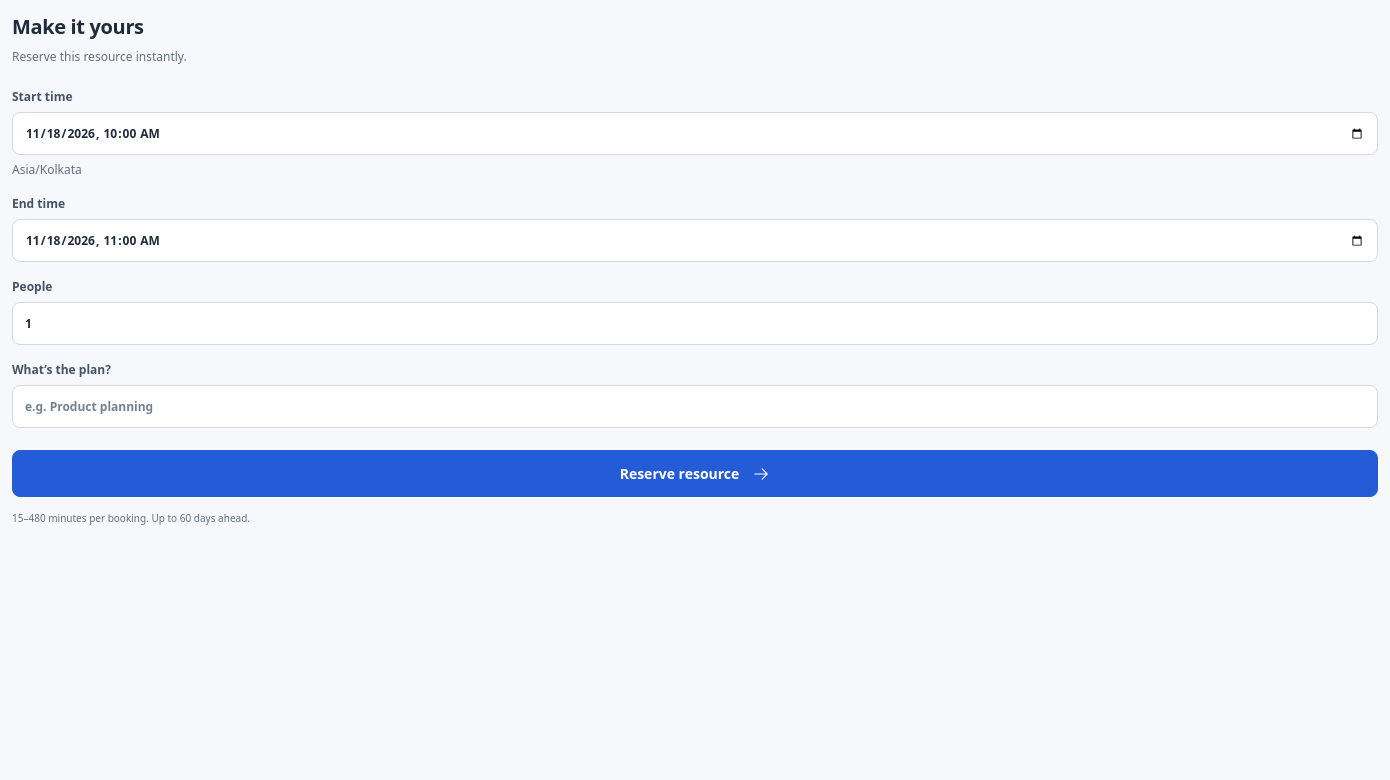
Test: ReserveOps user workflows › offers explicit waitlist opt-in after a 409, then persists a waiting request
This screenshot has width=1390, height=780.
In the field labelled "What’s the plan?": (695, 406) [12,385,1378,428], type "Planning"
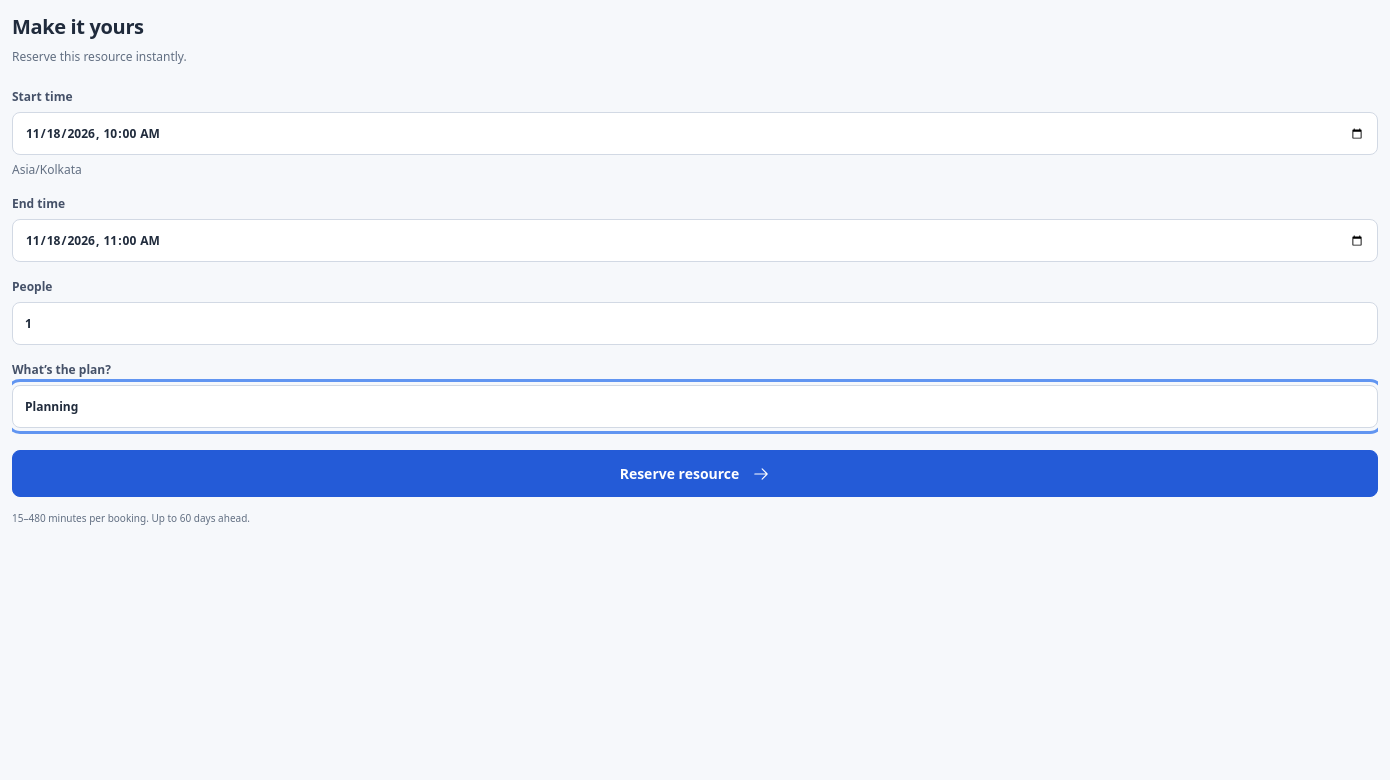
Click the button "Reserve resource": (695, 474) [12,450,1378,497]
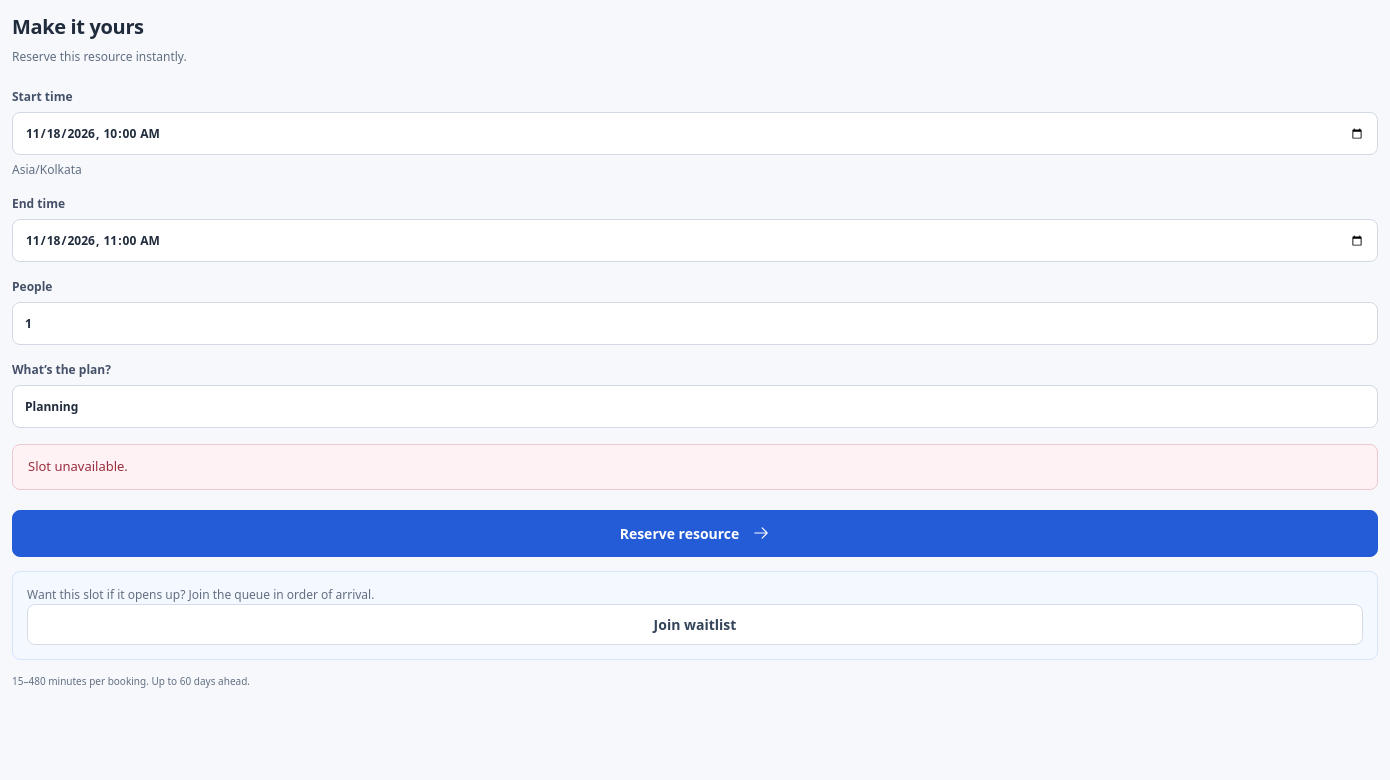
Click the button "Join waitlist": (695, 624) [27,604,1363,644]
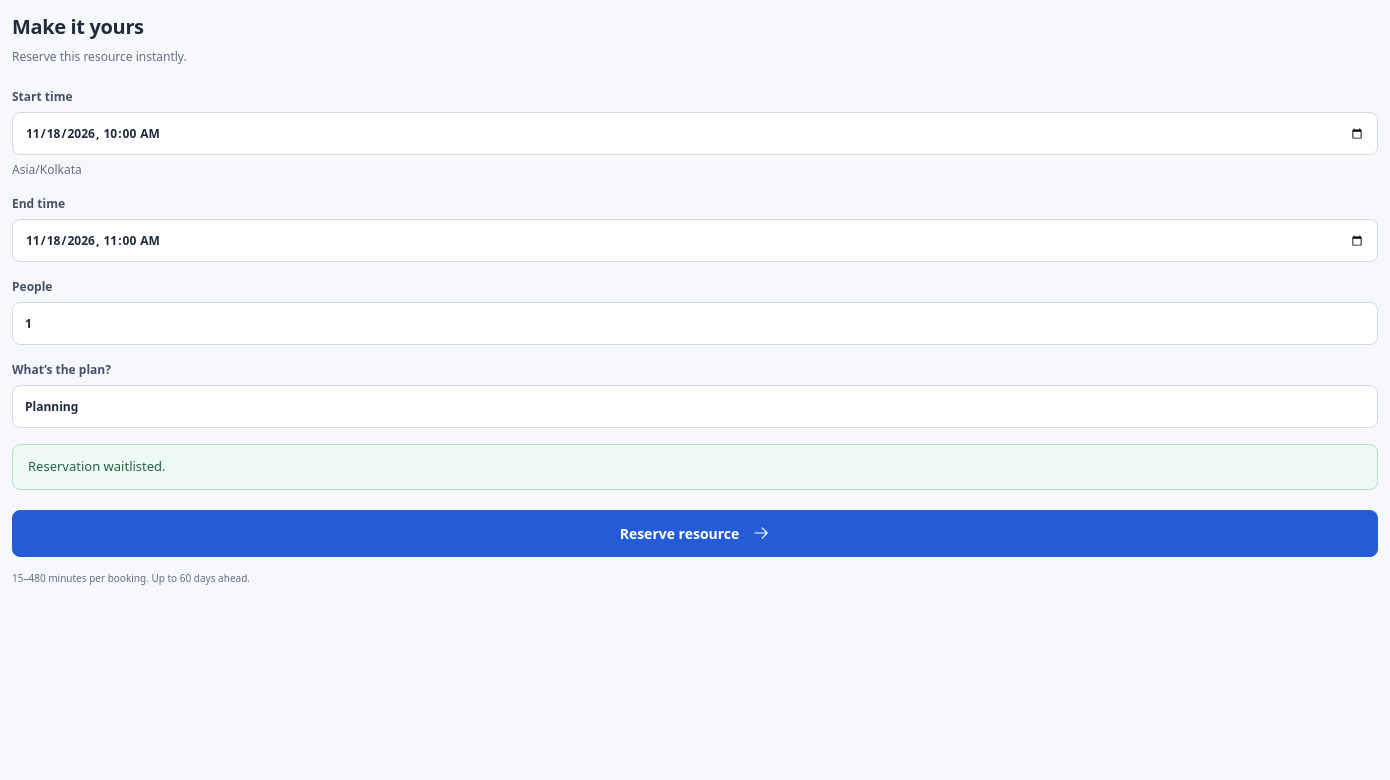
Result: the message reads "Reservation waitlisted." at [28,457,166,475]
